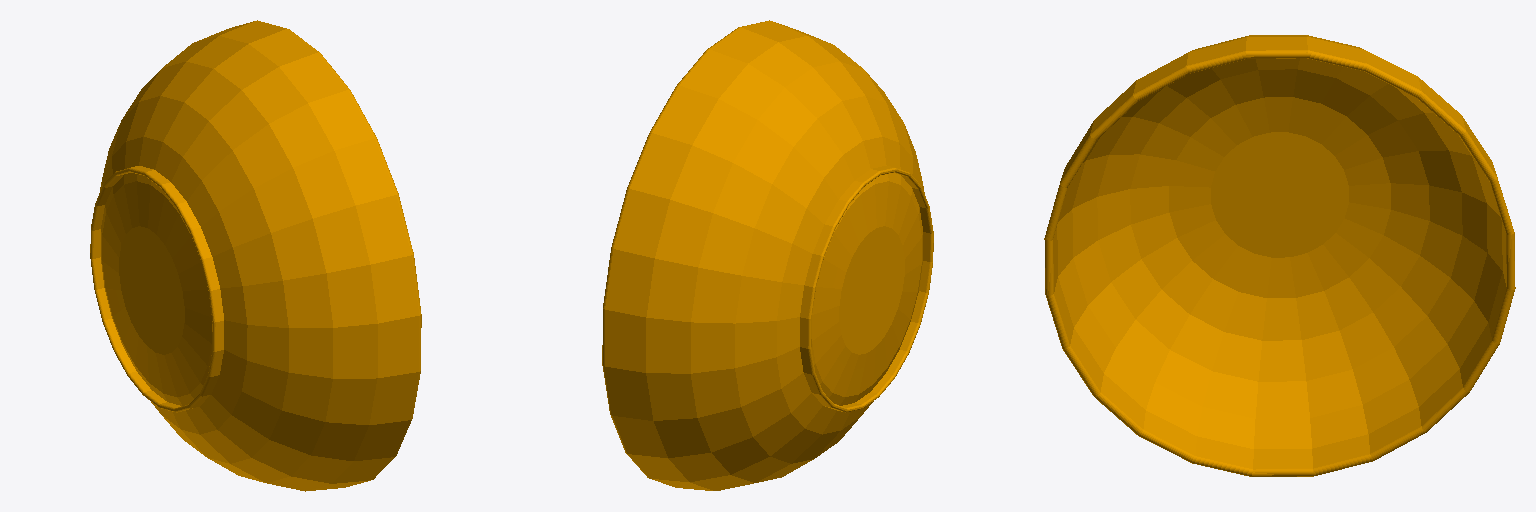
URDF robot description (obj_17):
<?xml version="1.0"?>
<robot name="obj_17">
  <link name="obj_17">
    <visual>
      <origin xyz="0.0 0.0 0.0" rpy="0 0 0"/>
      <geometry>
        <mesh filename="../mesh/ncf_mug_cupholder/obj_assets/17/obj_collision.obj" scale="1 1 1"/>
      </geometry>
    </visual>
    <collision>
      <origin xyz="0.0 0.0 0.0" rpy="0 0 0"/>
      <geometry>
        <mesh filename="../mesh/ncf_mug_cupholder/obj_assets/17/obj_collision.obj" scale="1 1 1"/>
      </geometry>
      <sdf resolution="512"/>
    </collision >    
    <inertial>
      <mass value="0.102"/>
      <inertia ixx="0.0001" ixy="0.0" ixz="0.0" iyy="0.0001" iyz="0.0" izz="0.0001"/>
    </inertial>
  </link>
</robot>

--- Render facts (derived) ---
The picture shows the robot from 3 angles, left to right: view 1: azimuth 30°, elevation 25°; view 2: azimuth 150°, elevation 25°; view 3: azimuth 270°, elevation 25°; orthographic projection.
Model obj_17 with 1 links and 0 joints (none), rooted at obj_17, posed all joints at 0.
Visible links, largest first — view 1: obj_17; view 2: obj_17; view 3: obj_17.
Boxes of the visible links, x1=… form: obj_17: x1=90, y1=20, x2=421, y2=491; obj_17: x1=602, y1=20, x2=933, y2=490; obj_17: x1=1044, y1=35, x2=1515, y2=476.
Size in the robot's own frame: 0.0381 by 0.1026 by 0.1026 metres.
Meshes: 1 distinct files referenced, 1 mesh visuals loaded (1 OBJ).